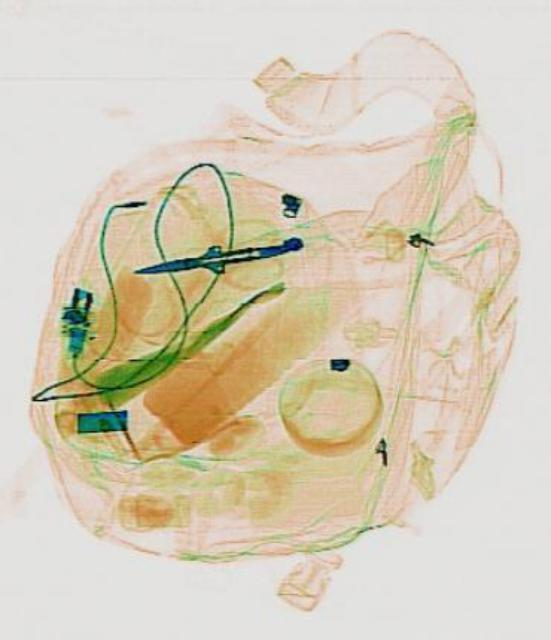Knife: (127, 232, 284, 286)
